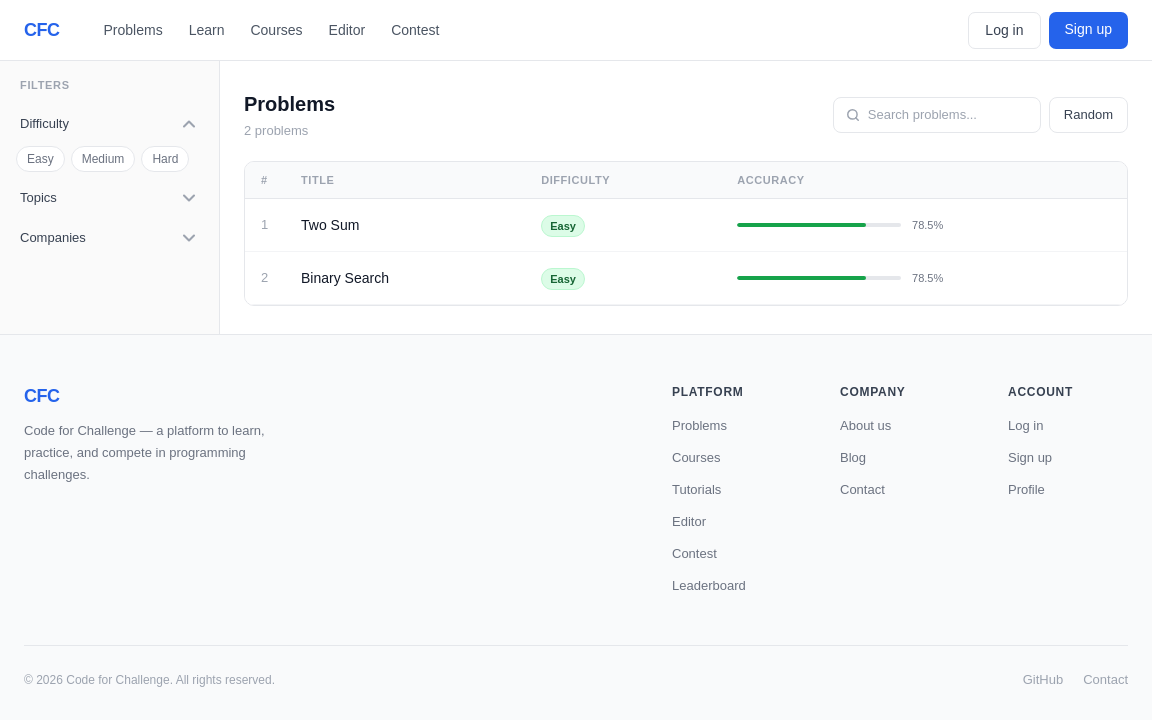
Test: ProblemSet page › filters problems by search query
Expected: the text "Two Sum" is shown, [293,198,533,252]
In the field with placeholder "Search problems...": (948, 115) [868,105,1028,124], type "binary"
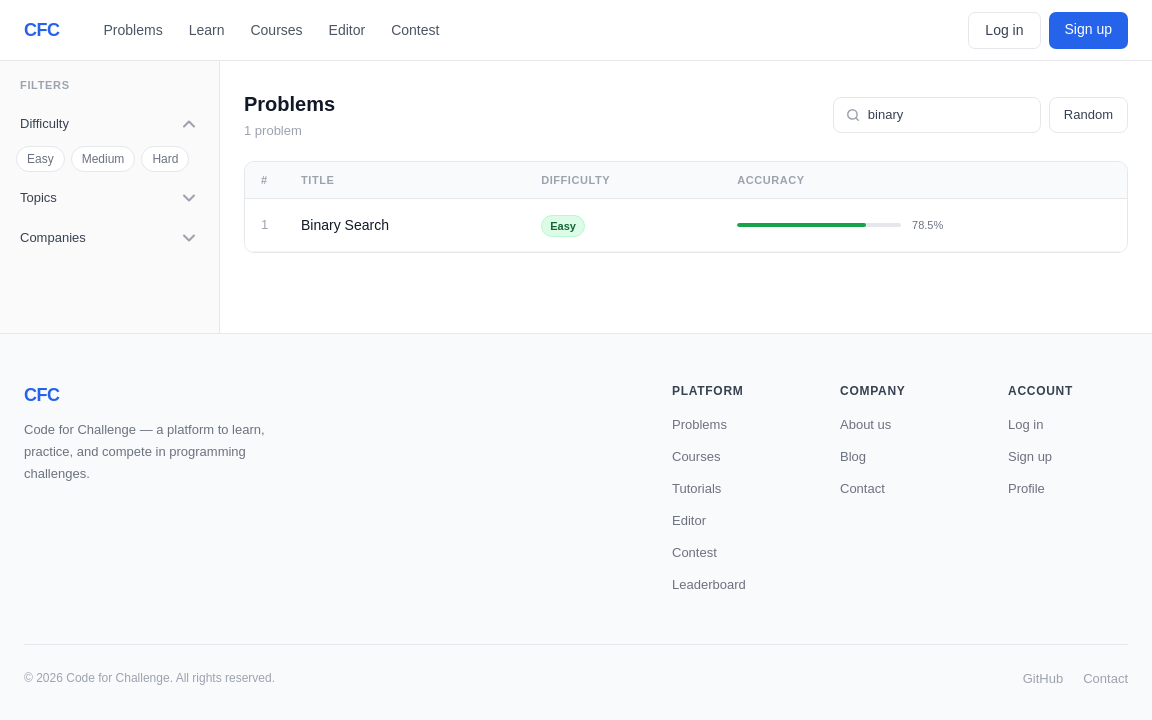
Expected: the text "Binary Search" is shown, [293,198,533,252]
Now the text "Two Sum" is gone
